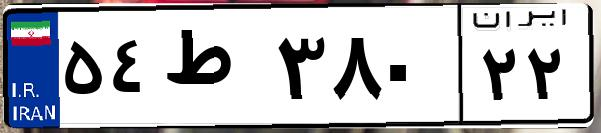0: (385, 28, 445, 110)
2: (475, 38, 525, 113), (525, 38, 570, 115)
3: (270, 28, 330, 110)
4: (110, 28, 158, 98)
5: (57, 26, 110, 100)
8: (330, 28, 385, 110)
ط: (158, 20, 270, 120)
